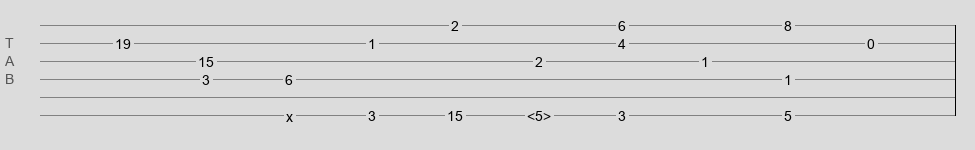0: (867, 36, 875, 46)
1: (368, 36, 376, 46), (701, 54, 709, 64), (784, 72, 792, 82)
15: (198, 54, 214, 64), (447, 108, 463, 118)
19: (115, 36, 131, 46)
2: (451, 18, 459, 28), (535, 54, 543, 64)
3: (202, 72, 210, 82), (368, 108, 376, 118), (618, 108, 626, 118)
4: (618, 36, 626, 46)
5: (784, 108, 792, 118)
6: (285, 72, 293, 82), (618, 18, 626, 28)
8: (784, 18, 792, 28)
harmonic: (527, 108, 551, 118)
x: (286, 109, 293, 117)
